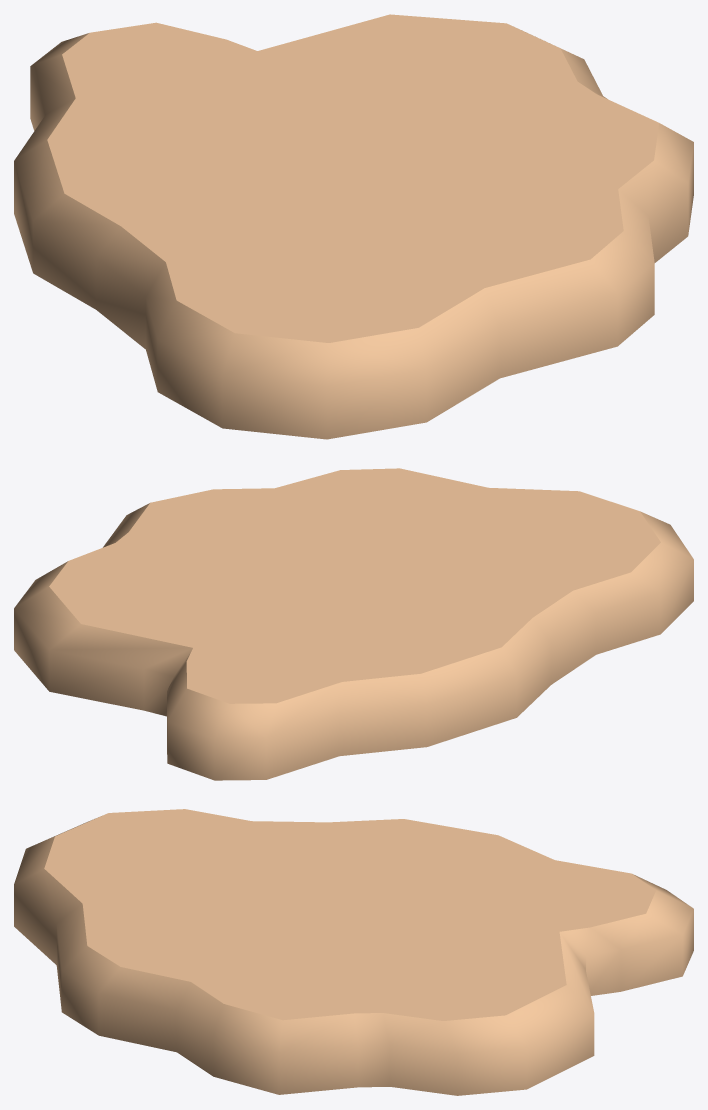
The picture shows the model from 3 angles, top to bottom: view 1: azimuth 30°, elevation 25°; view 2: azimuth 150°, elevation 25°; view 3: azimuth 270°, elevation 25°; orthographic projection. The views are drawn at different scales.
Visible parts, largest first — view 1: patch-sand.002; view 2: patch-sand.002; view 3: patch-sand.002.
Boxes of the visible parts, x1,y1,x2,y2 form: patch-sand.002: (14,14,693,439); patch-sand.002: (14,468,693,780); patch-sand.002: (14,809,693,1095).
Size of the model in its own units: 23.52 by 2.89 by 28.68.
